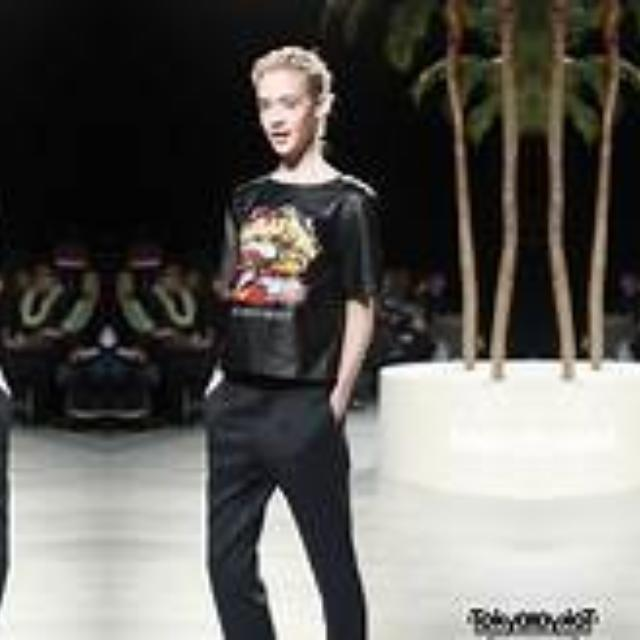person: (194, 31, 418, 593), (0, 31, 20, 593)
